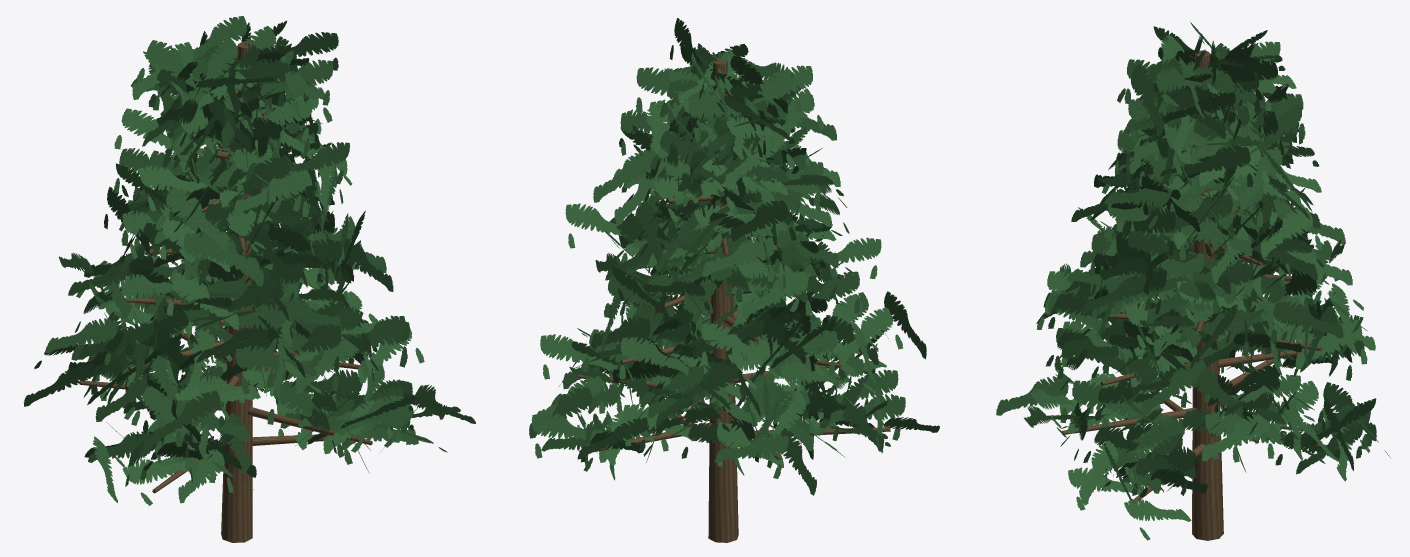
The picture shows the model from 3 angles, left to right: view 1: azimuth 30°, elevation 25°; view 2: azimuth 150°, elevation 25°; view 3: azimuth 270°, elevation 25°; orthographic projection. The views are drawn at different scales.
Visible parts, largest first — view 1: pine-needle, pine-bark; view 2: pine-needle, pine-bark; view 3: pine-needle, pine-bark.
Boxes of the visible parts, box(x1,y1,x2,y2) form: pine-needle: box(23, 16, 475, 505); pine-bark: box(79, 42, 415, 542); pine-needle: box(529, 18, 939, 495); pine-bark: box(578, 58, 890, 542); pine-needle: box(996, 22, 1390, 540); pine-bark: box(1062, 50, 1340, 540).
Size of the model in its own units: 8.59 by 10.37 by 7.65.
Materials: 2 (2 with a texture image).
